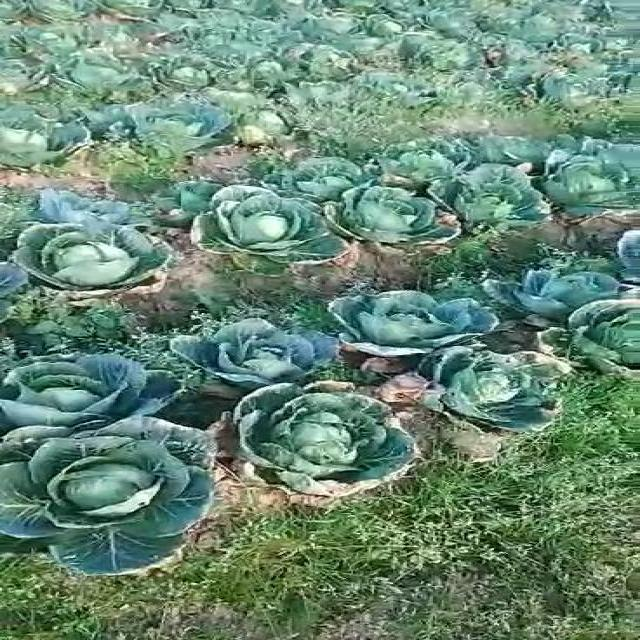Cabbage: (0, 421, 217, 574), (227, 382, 432, 502), (414, 348, 576, 446), (0, 225, 176, 302), (322, 288, 502, 362), (147, 319, 323, 393), (192, 188, 340, 273), (3, 350, 154, 420), (326, 186, 450, 254), (0, 100, 110, 168), (126, 94, 241, 154), (565, 302, 640, 386), (463, 169, 547, 232), (30, 184, 140, 231), (549, 155, 632, 213), (364, 133, 462, 180), (15, 19, 114, 56), (365, 72, 440, 116), (49, 58, 139, 94), (400, 34, 477, 75), (283, 149, 352, 194), (530, 68, 590, 112), (477, 133, 549, 167), (282, 42, 350, 72), (0, 54, 45, 96), (181, 22, 235, 56), (26, 0, 94, 25), (159, 56, 218, 84), (236, 20, 294, 48), (299, 13, 351, 43), (240, 50, 287, 80), (512, 16, 558, 46), (424, 6, 472, 32), (104, 0, 162, 19), (210, 0, 278, 16), (362, 16, 405, 38), (164, 0, 204, 14)
